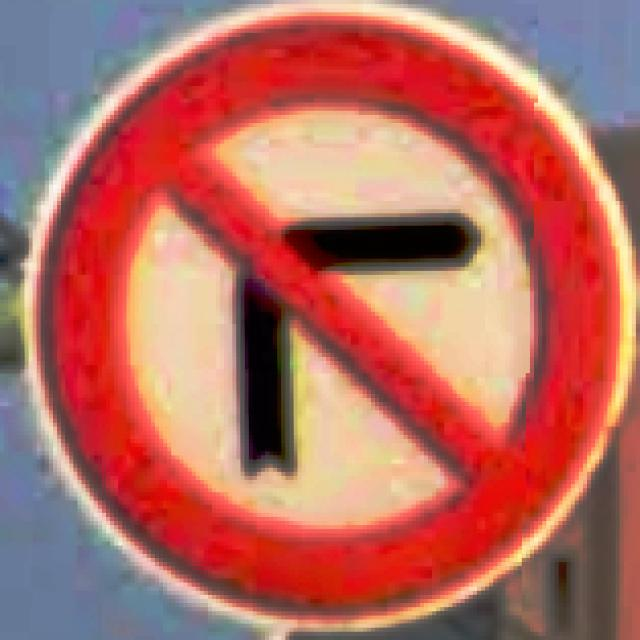noturnright: (20, 0, 636, 632)
